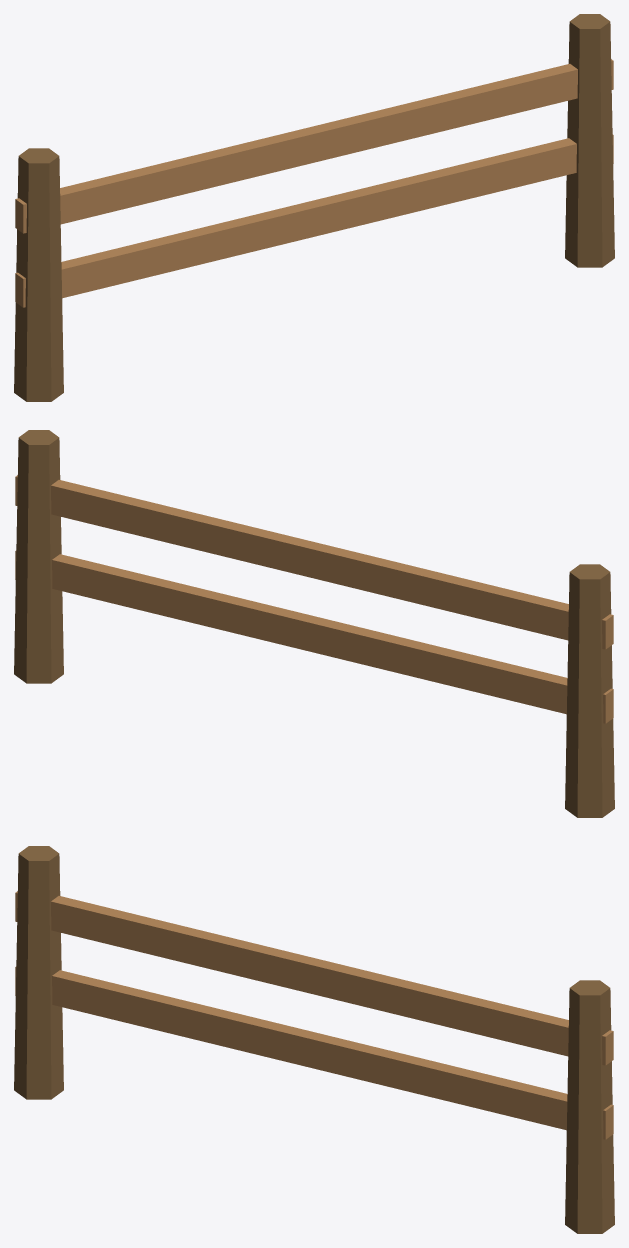
Rendered from fence.glb.
3 renders of one model, top to bottom at view 1: azimuth 30°, elevation 25°; view 2: azimuth 150°, elevation 25°; view 3: azimuth 330°, elevation 25°, orthographic.
Visible parts, largest first — view 1: rail0.88, rail0.52, post-1.4, post1.4; view 2: rail0.88, rail0.52, post-1.4, post1.4; view 3: rail0.88, rail0.52, post1.4, post-1.4.
Boxes of the visible parts, left/top/right/bottom form: rail0.88: left=15, top=59, right=613, bottom=233; rail0.52: left=15, top=134, right=613, bottom=307; post-1.4: left=14, top=148, right=63, bottom=401; post1.4: left=565, top=14, right=614, bottom=267; rail0.88: left=15, top=475, right=613, bottom=649; rail0.52: left=15, top=550, right=613, bottom=723; post-1.4: left=565, top=564, right=614, bottom=817; post1.4: left=14, top=430, right=63, bottom=683; rail0.88: left=15, top=891, right=613, bottom=1065; rail0.52: left=15, top=966, right=613, bottom=1139; post1.4: left=565, top=980, right=614, bottom=1233; post-1.4: left=14, top=846, right=63, bottom=1099.
Bounding box in the file's own units: 3 × 1.15 × 0.22.
